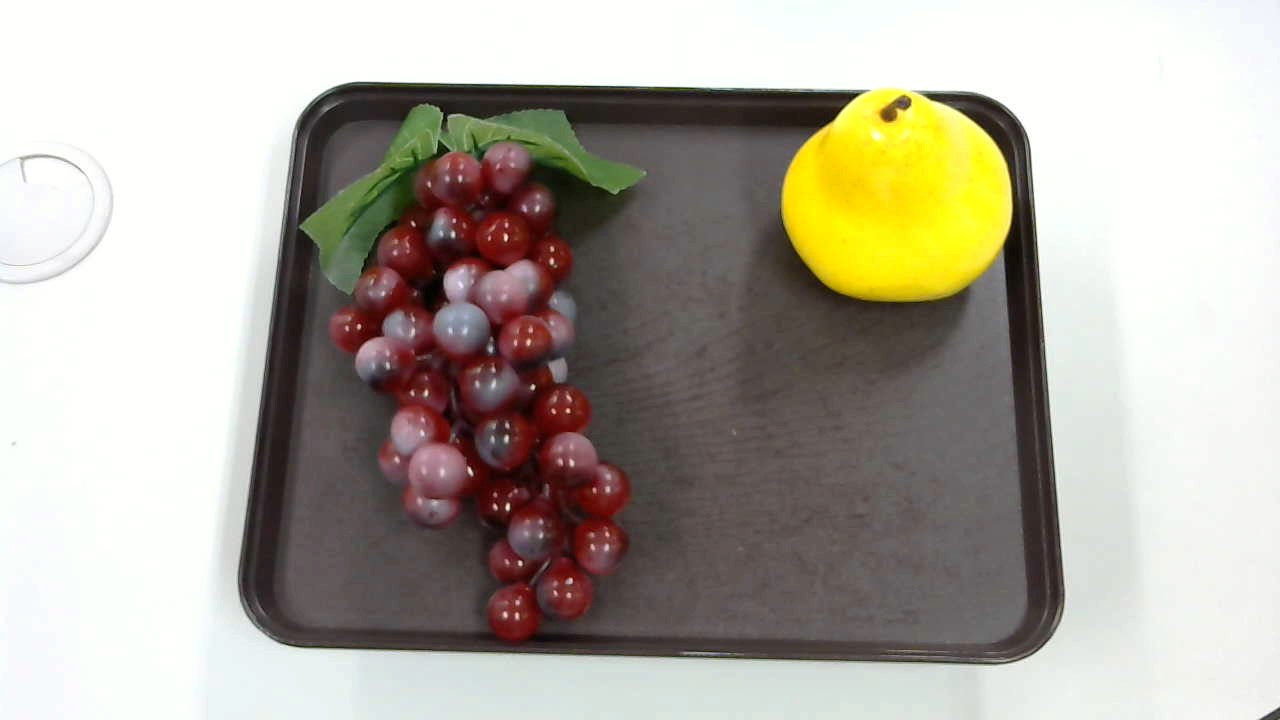grape: (299, 91, 655, 635)
yellow pear: (783, 83, 1015, 302)
